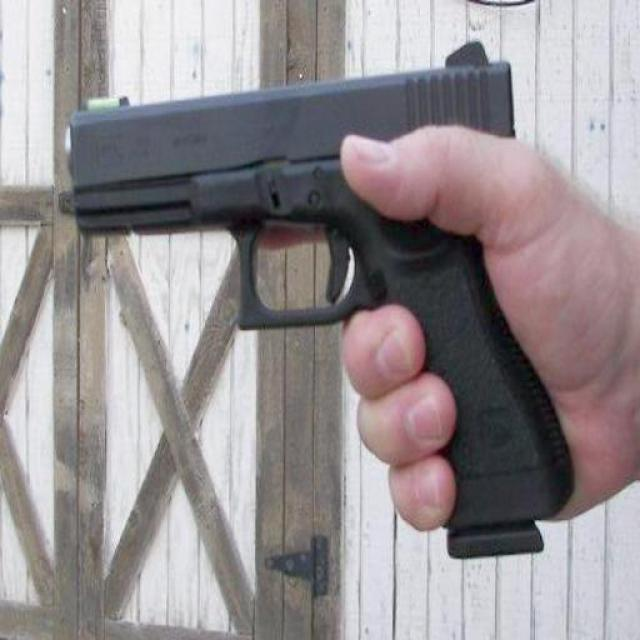pistol: (51, 41, 569, 561)
